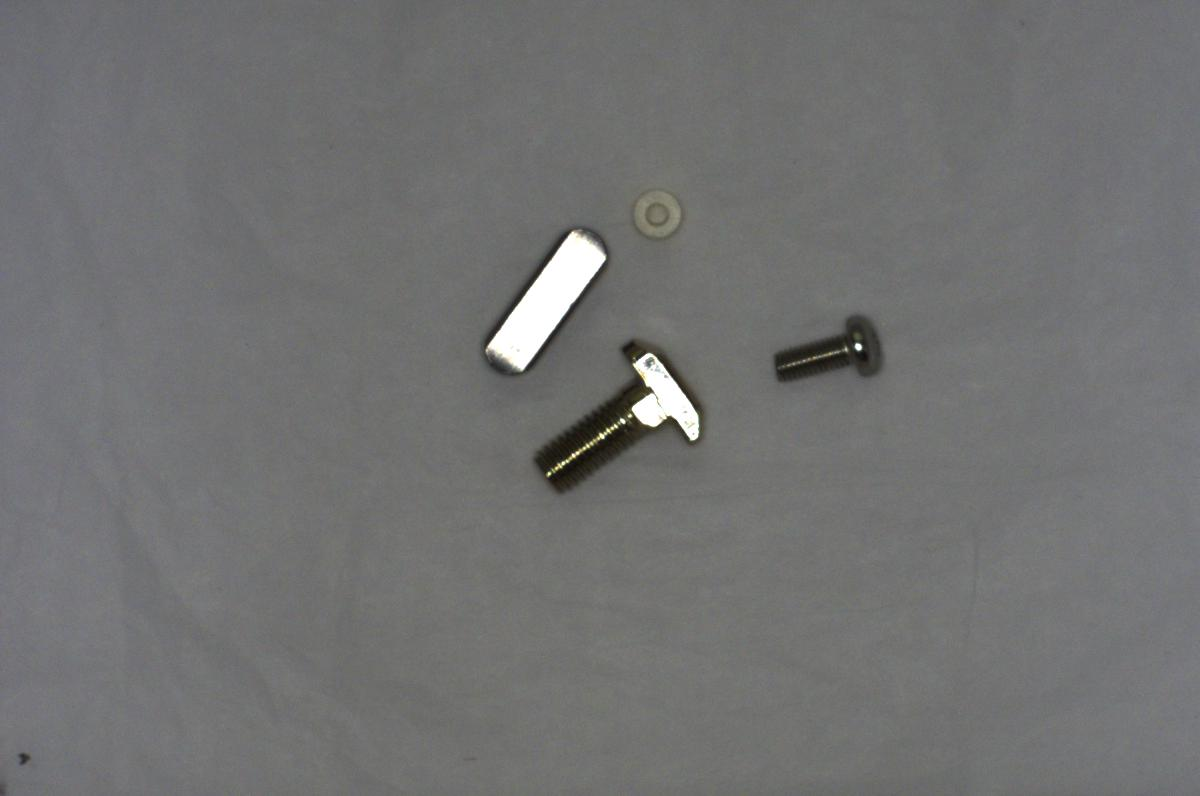Keybar: (475, 215, 611, 385)
Plastic cushion pillar: (625, 185, 685, 242)
Round head screw: (771, 307, 886, 394)
T-shaped screw: (525, 335, 707, 493)
